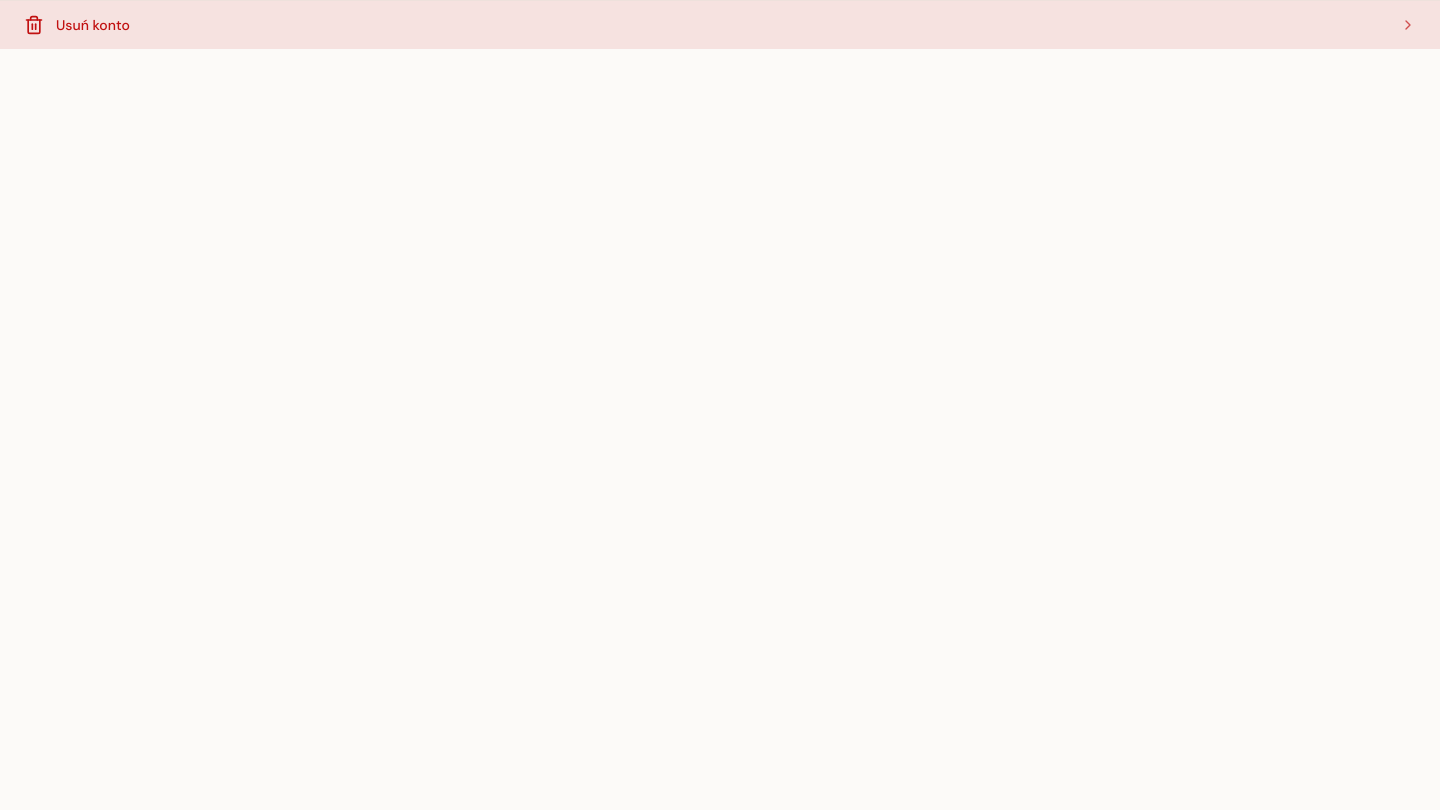
Test case: DeleteAccountSection — „wstecz” zamyka dialog (GL-2-037) › „Anuluj” zdejmuje atrapę jednym history.back()
Click the button "Usuń konto" at {"x": 93, "y": 25}, box [0, 0, 1439, 49]
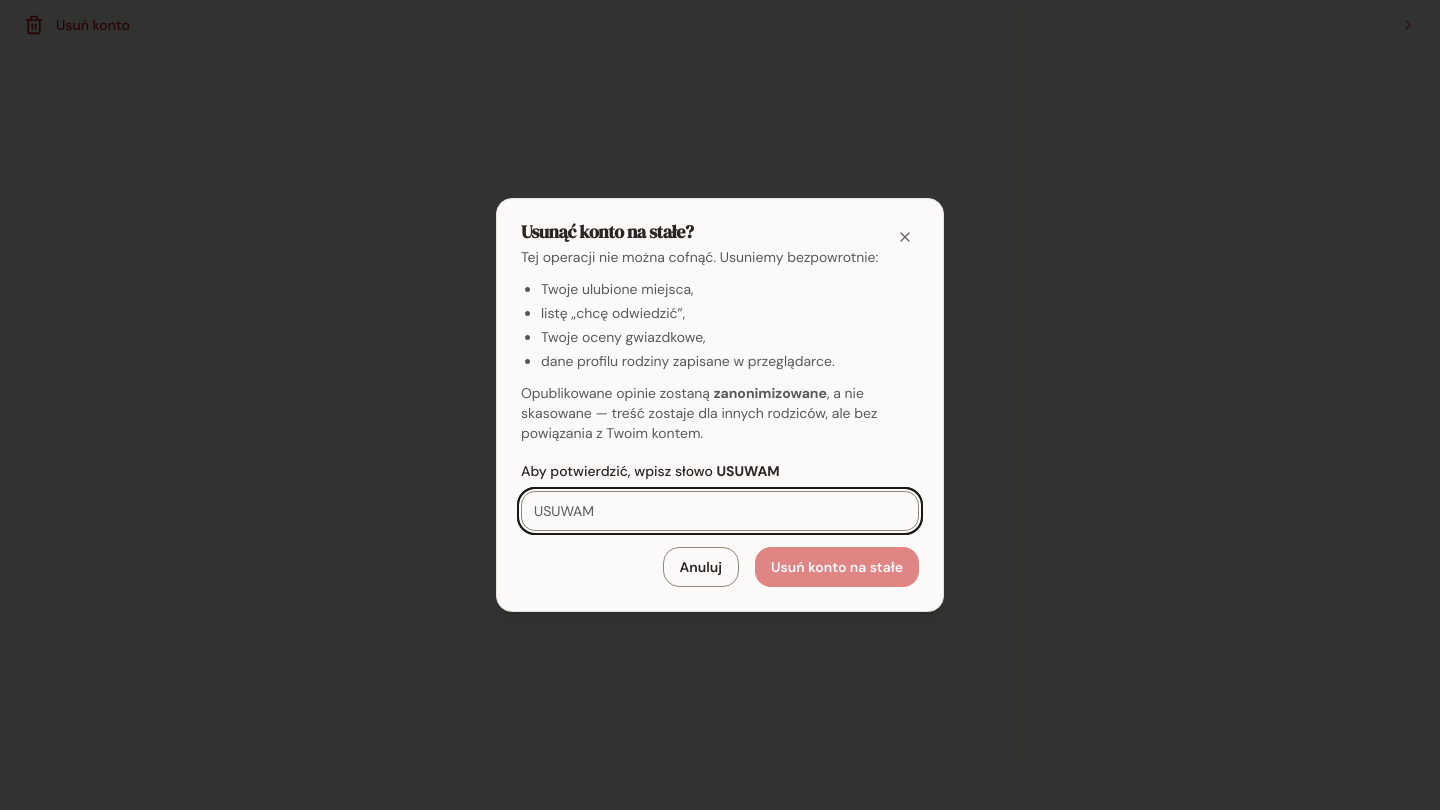
Expected: the dialog is shown, [496, 198, 944, 612]
Click the button "Anuluj" at {"x": 701, "y": 567}, box [663, 547, 739, 587]
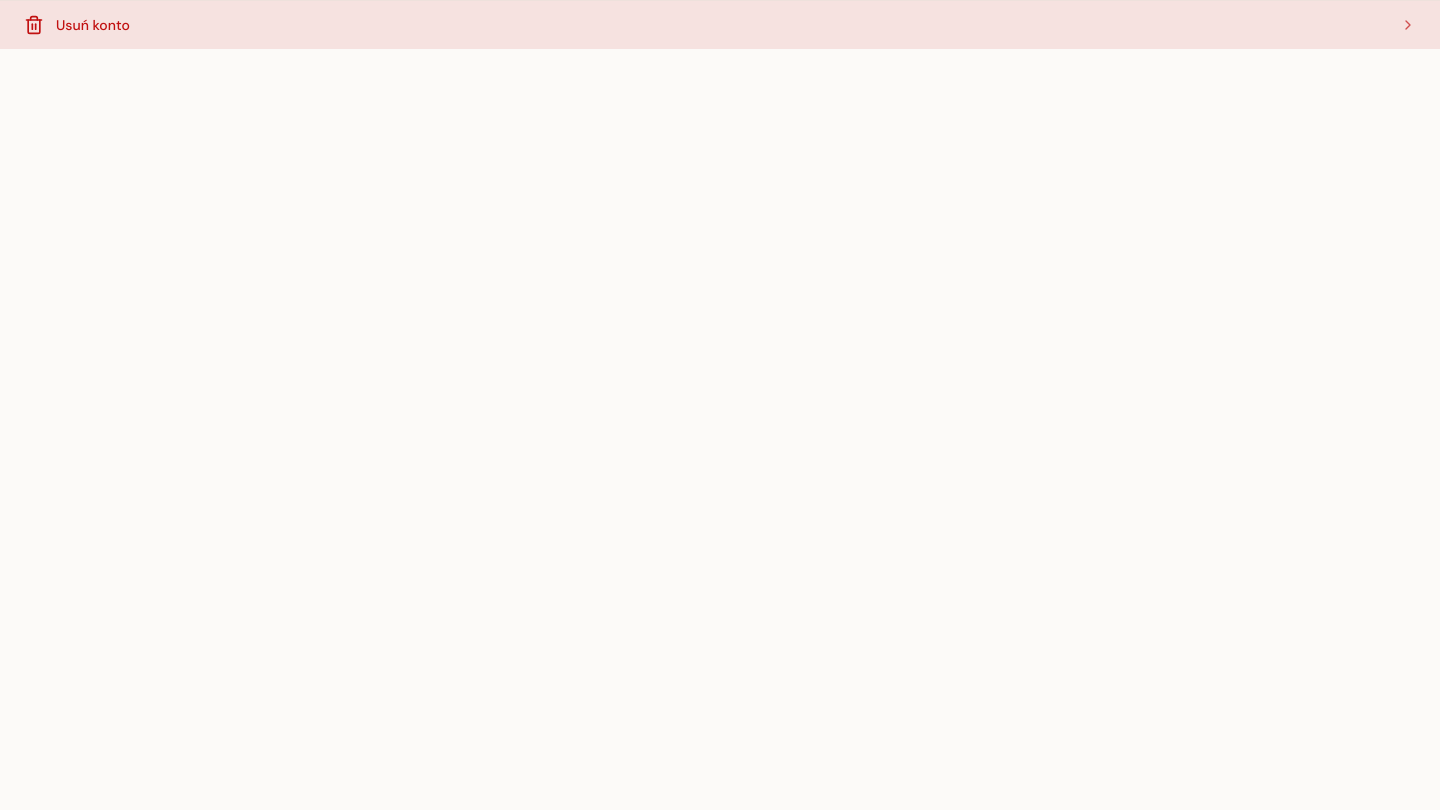
Expected: the dialog is gone
